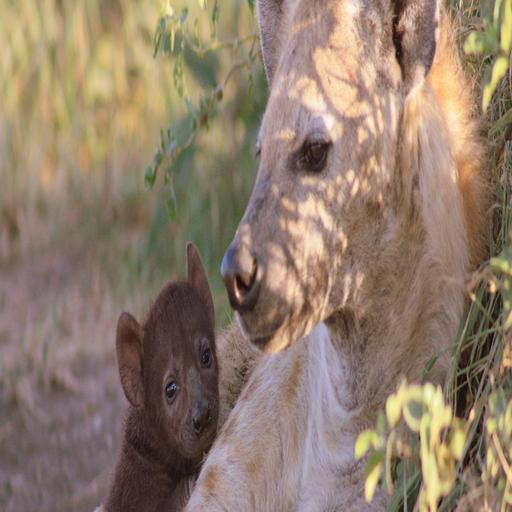Hyena: (138, 0, 512, 512), (88, 228, 297, 512)
